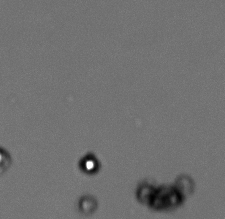Dead Cell: (135, 180, 183, 208), (80, 197, 98, 212), (1, 148, 10, 171)
Living Cell: (79, 153, 101, 175)
